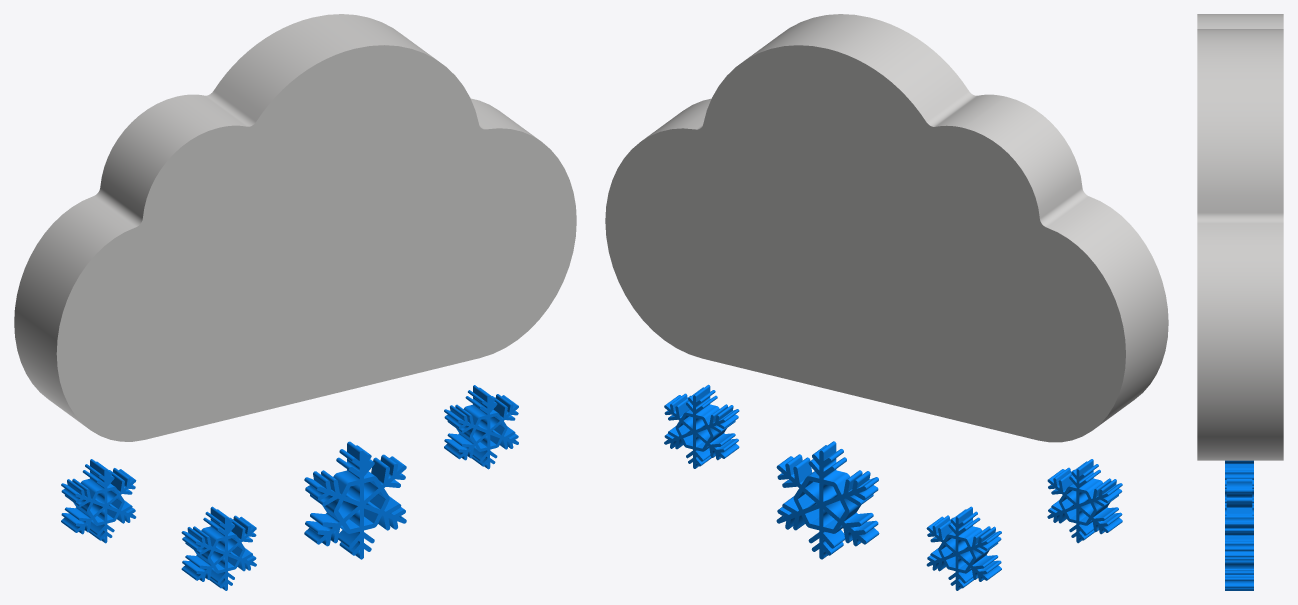
File: snow.fbx
3 renders of one model, left to right at view 1: azimuth 30°, elevation 25°; view 2: azimuth 150°, elevation 25°; view 3: azimuth 270°, elevation 25°, orthographic.
Parts seen in each view (by area): view 1: Curve.003, XMLID_5964_.002, XMLID_5964_, XMLID_5964_.001, XMLID_5964_.003; view 2: Curve.003, XMLID_5964_.002, XMLID_5964_, XMLID_5964_.001, XMLID_5964_.003; view 3: Curve.003, XMLID_5964_.003, XMLID_5964_.002, XMLID_5964_.001.
Boxes of the visible parts, left/top/right/bottom form: Curve.003: left=14, top=14, right=576, bottom=441; XMLID_5964_.002: left=304, top=441, right=406, bottom=559; XMLID_5964_: left=61, top=459, right=136, bottom=543; XMLID_5964_.001: left=181, top=506, right=256, bottom=590; XMLID_5964_.003: left=444, top=385, right=518, bottom=469; Curve.003: left=605, top=14, right=1168, bottom=442; XMLID_5964_.002: left=776, top=441, right=879, bottom=559; XMLID_5964_: left=1047, top=459, right=1122, bottom=543; XMLID_5964_.001: left=926, top=506, right=1001, bottom=590; XMLID_5964_.003: left=664, top=384, right=739, bottom=468; Curve.003: left=1197, top=14, right=1283, bottom=460; XMLID_5964_.003: left=1225, top=515, right=1253, bottom=590; XMLID_5964_.002: left=1226, top=478, right=1252, bottom=515; XMLID_5964_.001: left=1225, top=460, right=1253, bottom=515.
Size of the model in its own units: 7.76 by 7.51 by 1.1.
